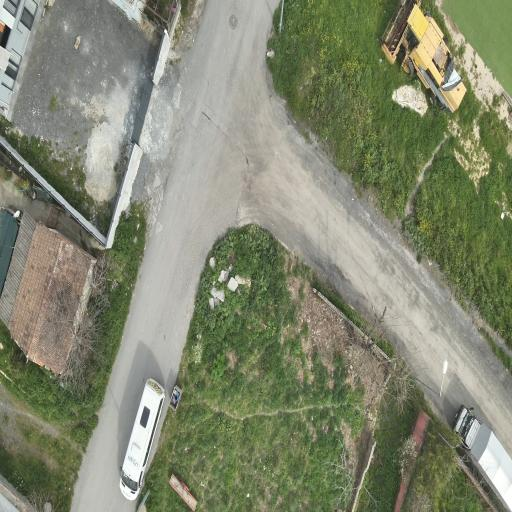car: (455, 405, 511, 511), (120, 379, 165, 500)
harvester: (382, 0, 466, 112)
